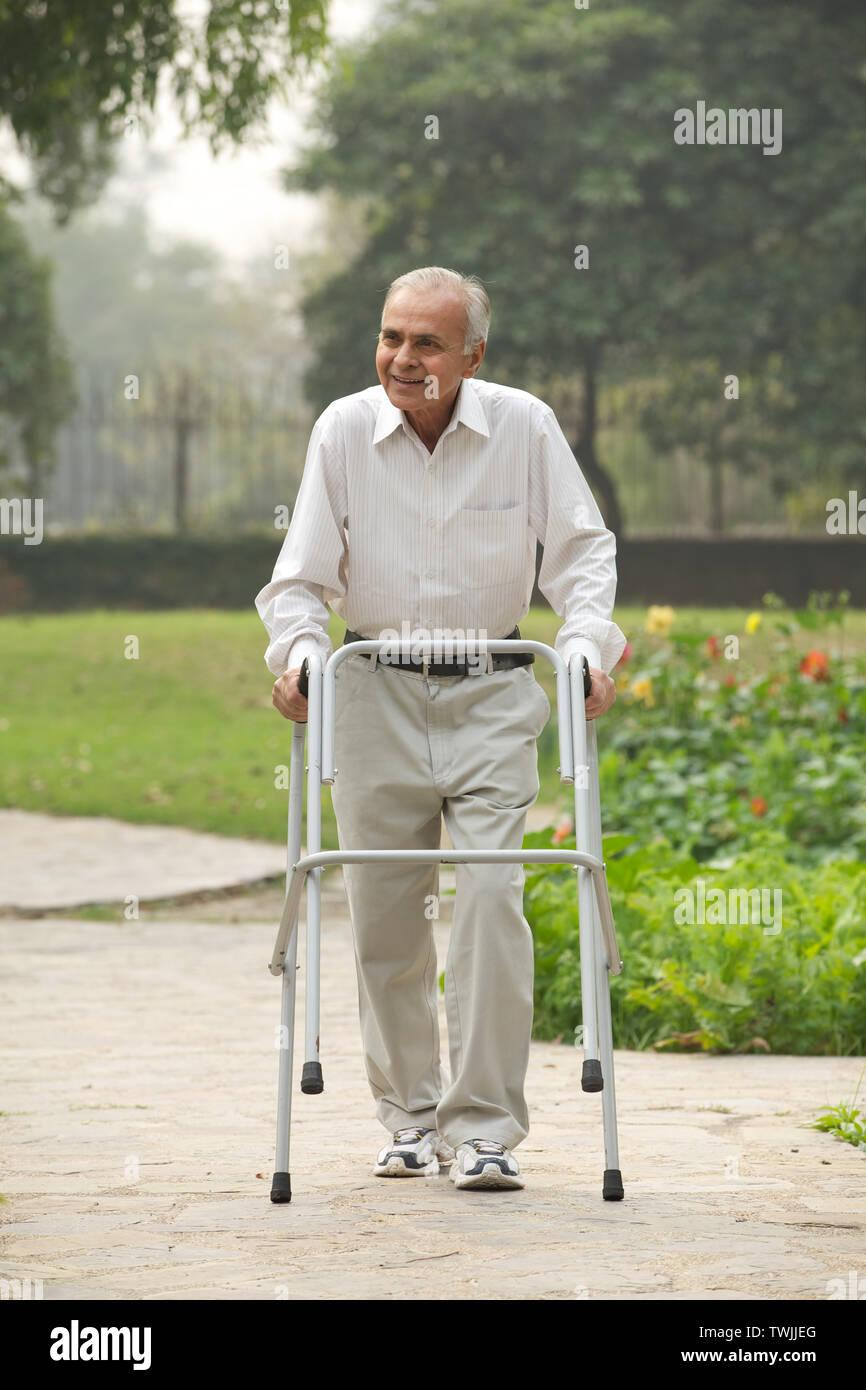walking_frame: (256, 266, 626, 1202)
